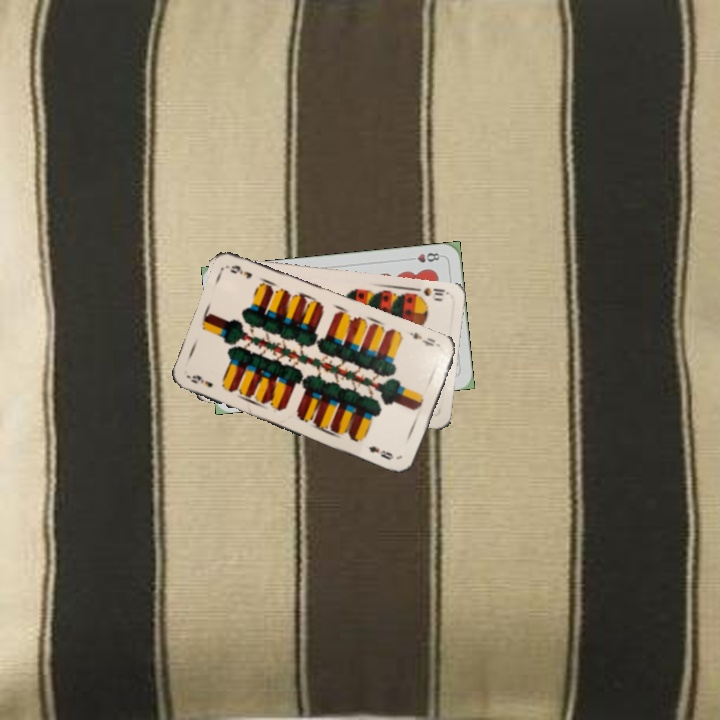E9: (406, 328, 438, 349), (184, 371, 216, 390)
H8: (404, 249, 445, 265)
S10: (409, 283, 450, 302)
